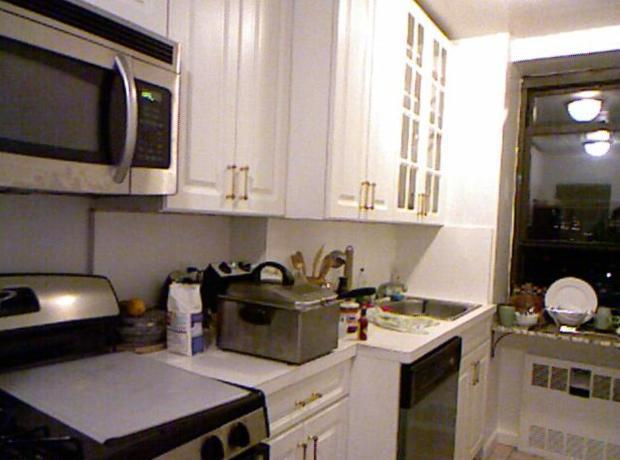Electrodomestico: (3, 271, 268, 457), (390, 348, 458, 458)
Lavaplatos: (373, 275, 483, 331)
